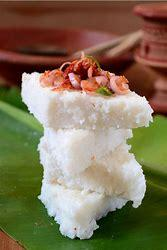Kiribath: (19, 91, 156, 246)
Lunu sambol: (40, 50, 139, 94)
